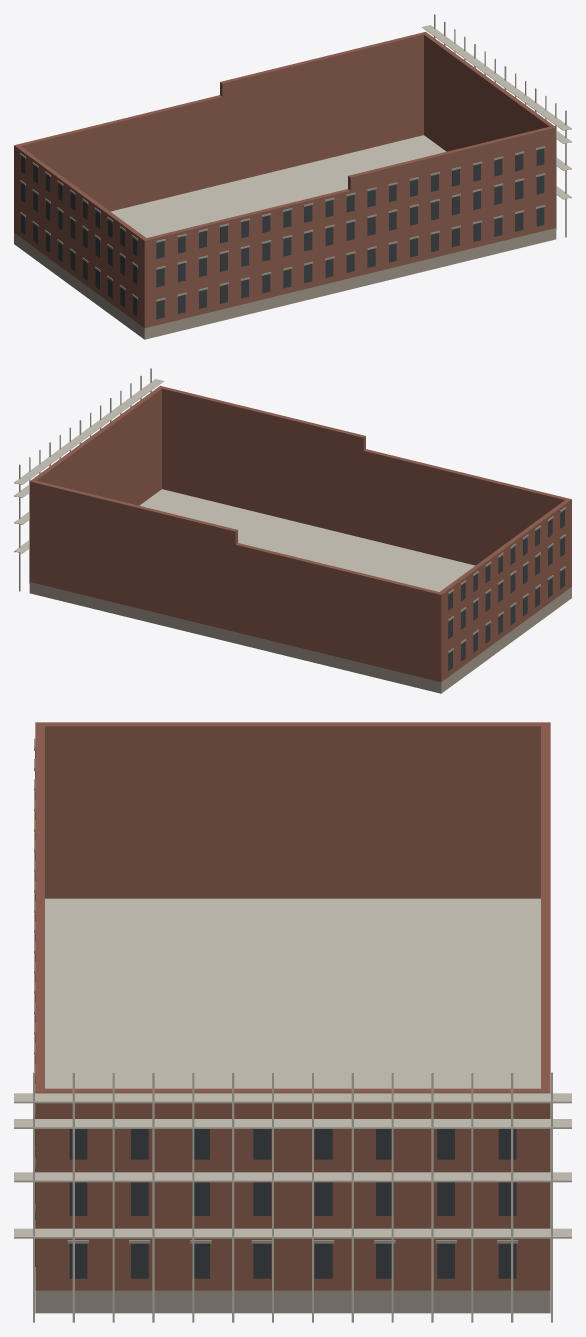
The model's file is ice_cream_works_1605_indiana__draft_1904.glb.
3 renders of one model, top to bottom at view 1: azimuth 30°, elevation 25°; view 2: azimuth 150°, elevation 25°; view 3: azimuth 270°, elevation 25°, orthographic. The views are drawn at different scales.
Visible parts, largest first — view 1: ice_cream_works_1605_indiana__draft_1904; view 2: ice_cream_works_1605_indiana__draft_1904; view 3: ice_cream_works_1605_indiana__draft_1904.
Part boxes in pixels (<box>): ice_cream_works_1605_indiana__draft_1904: <box>14,14,571,339</box>; ice_cream_works_1605_indiana__draft_1904: <box>14,368,571,693</box>; ice_cream_works_1605_indiana__draft_1904: <box>14,722,571,1322</box>.
Size of the model in its own units: 54.13 by 15.5 by 31.4.
